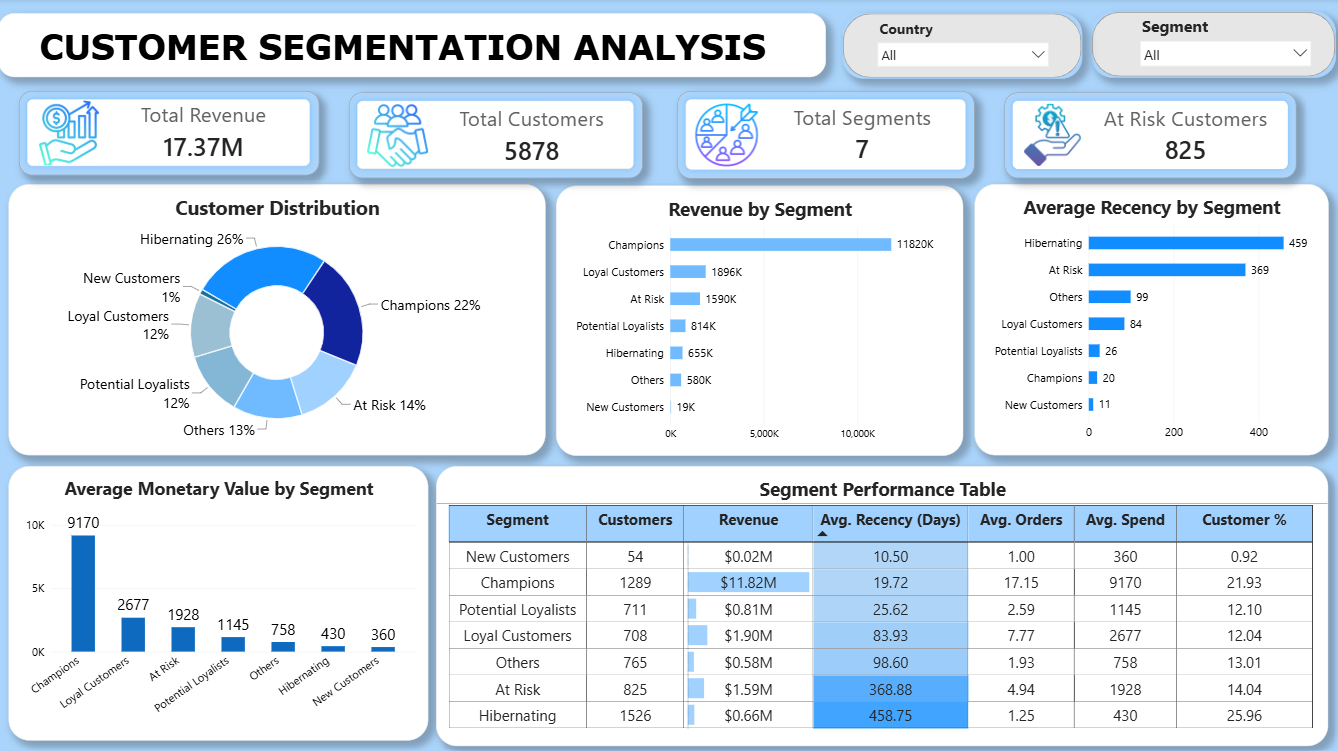

The dashboard page shown, as its layout file describes it:
{"tool":"powerbi","page":{"name":"customer segmentation","canvas":[1920,1080],"ordinal":1},"visuals":[{"type":"donutChart","title":"Customer Distribution","fields":{"Category":["Segment_Summary.Segment"],"Y":["Segment_Summary.Total Customer"]},"box":[15,283.6,816.5,371.7],"z":0},{"type":"barChart","title":"Revenue by Segment","fields":{"Category":["Segment_Summary.Segment"],"Y":["Transactions.Total Revenue"]},"box":[848.7,283.6,532.8,371.7],"z":1000},{"type":"clusteredColumnChart","title":"Average Monetary Value by Segment","fields":{"Category":["Segment_Summary.Segment"],"Y":["Avg(Segment_Summary.Average_Monetary)"]},"box":[15,670.4,601.6,393.2],"z":2000},{"type":"cardVisual","fields":{"Data":["Transactions.Total Revenue"]},"box":[30.7,132.3,430,120.5],"z":3000},{"type":"textbox","box":[0,21.3,1186,92.1],"z":4000},{"type":"cardVisual","fields":{"Data":["Transactions.Total Customers"]},"box":[503.2,134.7,420.5,122.9],"z":5000},{"type":"barChart","title":"Average Recency by Segment","fields":{"Category":["Segment_Summary.Segment"],"Y":["Avg(Segment_Summary.Average_Recency)"]},"box":[1398.7,283.6,507.1,371.7],"z":6000},{"type":"tableEx","title":"Segment Performance Table","fields":{"Values":["Segment_Summary.Segment","Segment_Summary.Customers","Segment_Summary.Total_Revenue","Segment_Summary.Average_Recency","Segment_Summary.Average_Frequency","Segment_Summary.Average_Monetary","Segment_Summary.Customer_Percentage"]},"box":[646.7,670.4,1259.1,401.8],"z":7000},{"type":"shape","box":[1566.3,19.3,350.2,94.5],"z":8000},{"type":"slicer","fields":{"Values":["Segment_Summary.Segment"]},"box":[1630.2,23.6,255.2,85.1],"z":9000},{"type":"cardVisual","fields":{"Data":["Segment_Summary.Total Segments"]},"box":[973.4,132.3,425.3,125.2],"z":10000},{"type":"cardVisual","fields":{"Data":["Segment_Summary.At Risk Customers"]},"box":[1441.2,134.7,418.2,122.9],"z":11000},{"type":"shape","box":[1209.1,21.3,343.3,94.2],"z":12000},{"type":"slicer","fields":{"Values":["Transactions.Country"]},"box":[1254.7,30.4,255.2,75.9],"z":13000}]}

Visuals, with their boxes in screenshot pixels (x1, y1, x2, y2), scaled from the page's 1920x1080 canvas onto the 1338x751 screenshot:
"Customer Distribution" donutChart: pyautogui.locateOnScreen(10, 197, 579, 456)
"Revenue by Segment" barChart: pyautogui.locateOnScreen(591, 197, 963, 456)
"Average Monetary Value by Segment" clusteredColumnChart: pyautogui.locateOnScreen(10, 466, 430, 740)
cardVisual - Transactions.Total Revenue: pyautogui.locateOnScreen(21, 92, 321, 176)
textbox: pyautogui.locateOnScreen(0, 15, 826, 79)
cardVisual - Transactions.Total Customers: pyautogui.locateOnScreen(351, 94, 644, 179)
"Average Recency by Segment" barChart: pyautogui.locateOnScreen(975, 197, 1328, 456)
"Segment Performance Table" tableEx: pyautogui.locateOnScreen(451, 466, 1328, 746)
shape: pyautogui.locateOnScreen(1092, 13, 1336, 79)
slicer - Segment_Summary.Segment: pyautogui.locateOnScreen(1136, 16, 1314, 76)
cardVisual - Segment_Summary.Total Segments: pyautogui.locateOnScreen(678, 92, 975, 179)
cardVisual - Segment_Summary.At Risk Customers: pyautogui.locateOnScreen(1004, 94, 1296, 179)
shape: pyautogui.locateOnScreen(843, 15, 1082, 80)
slicer - Transactions.Country: pyautogui.locateOnScreen(874, 21, 1052, 74)
